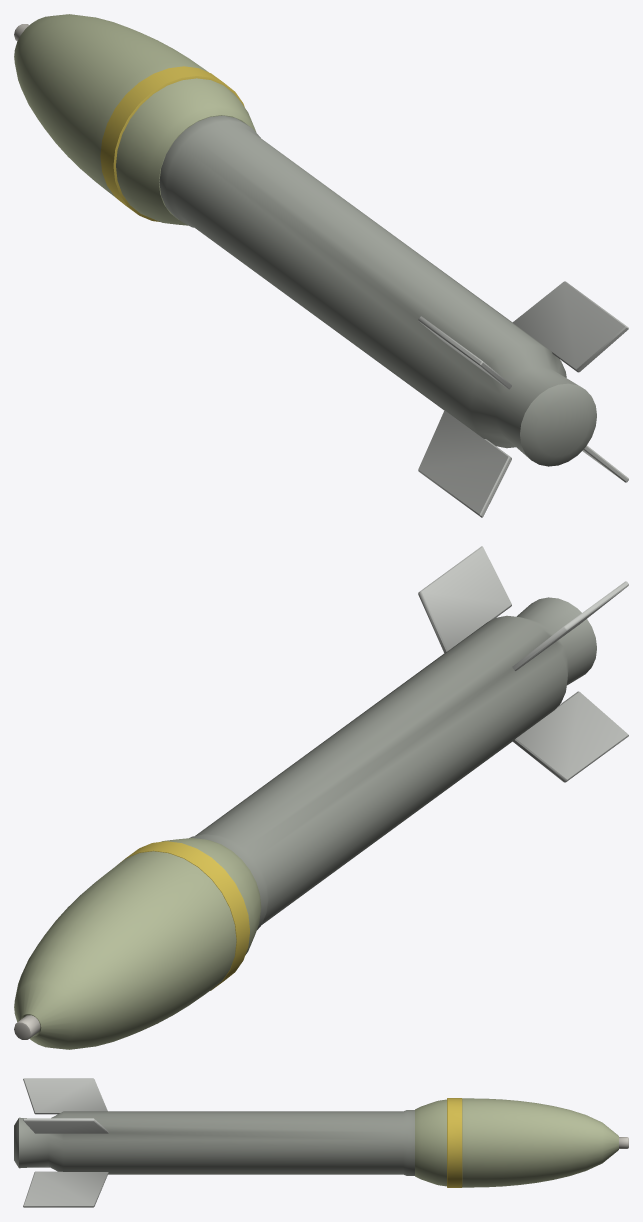
The model's file is rocket.glb.
3 renders of one model, top to bottom at view 1: azimuth 30°, elevation 25°; view 2: azimuth 150°, elevation 25°; view 3: azimuth 270°, elevation 25°, orthographic. The views are drawn at different scales.
Visible parts, largest first — view 1: Body_lod0; view 2: Body_lod0; view 3: Body_lod0.
Boxes of the visible parts, x1,y1,x2,y2 form: Body_lod0: [14, 14, 628, 517]; Body_lod0: [14, 546, 628, 1049]; Body_lod0: [14, 1078, 628, 1207].
Size of what is drawn, in the model's own units: 0.0989 by 0.0989 by 0.621.
